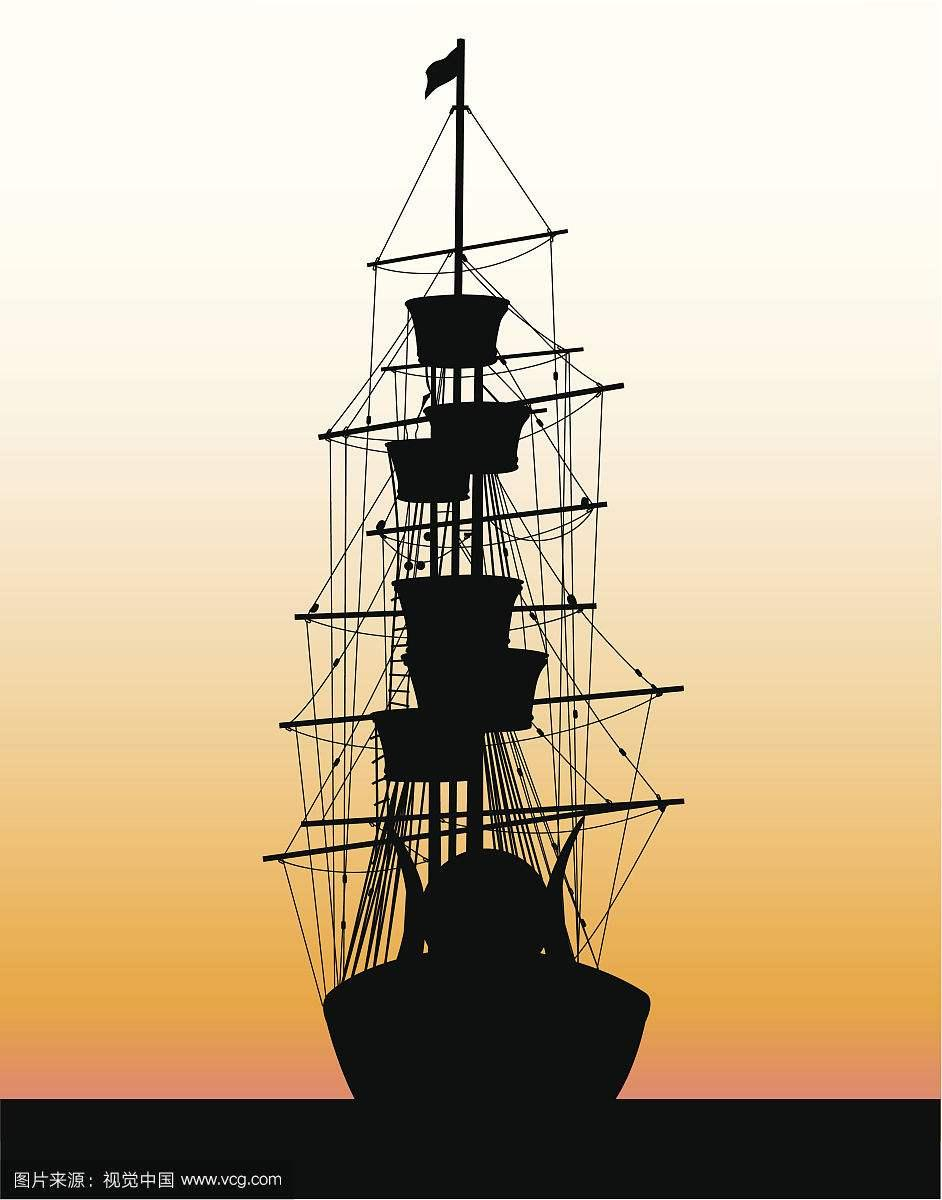fanchuan: (269, 37, 701, 1093)
